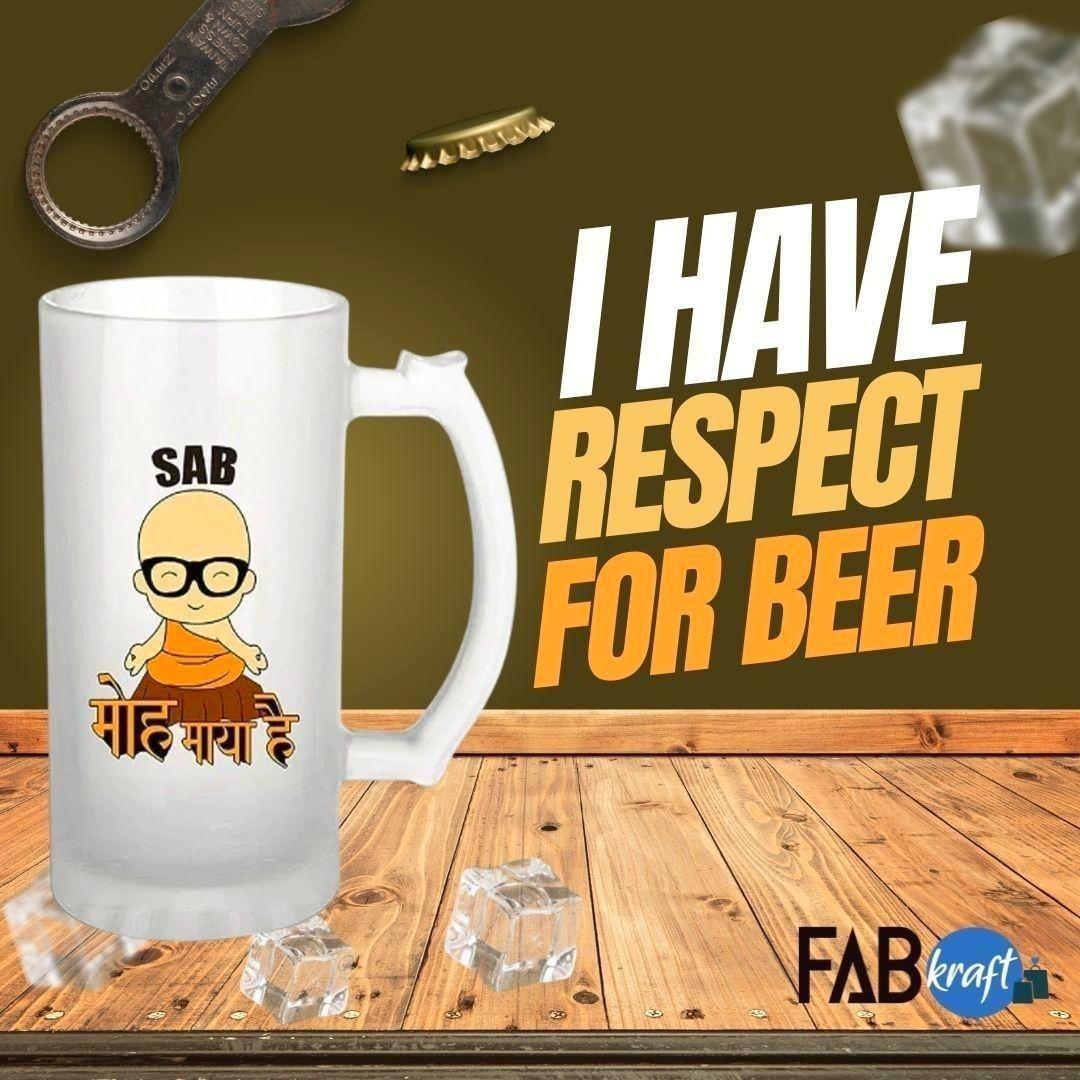glass-mug: (30, 265, 525, 950)
